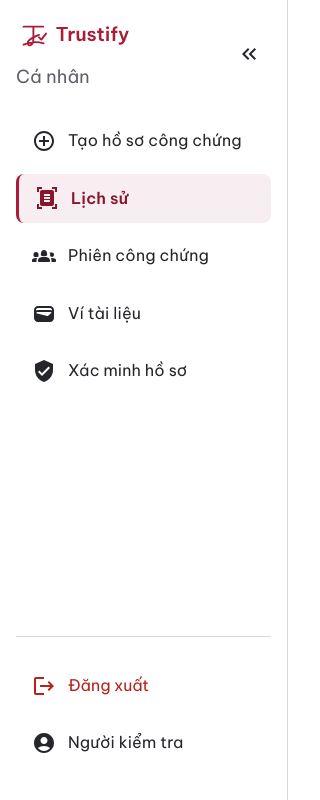
it: collapsed desktop navigation keeps accessible link names
This screenshot has width=320, height=800.
Click the button named "Thu gọn menu" at coordinates (249, 54), box [227, 32, 271, 76]
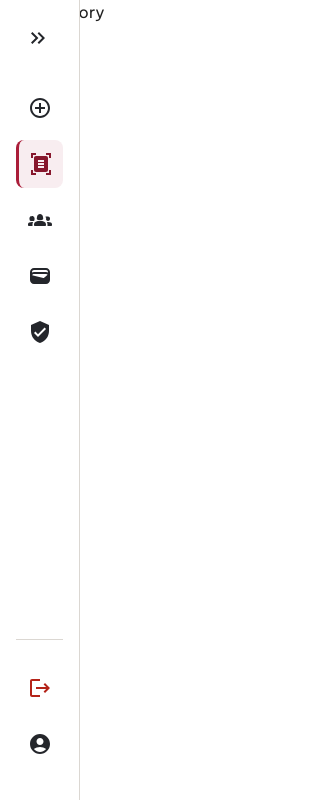
Check: the link named "Lịch sử" is shown, box [16, 140, 63, 188]
Check: the text "Lịch sử" is gone
